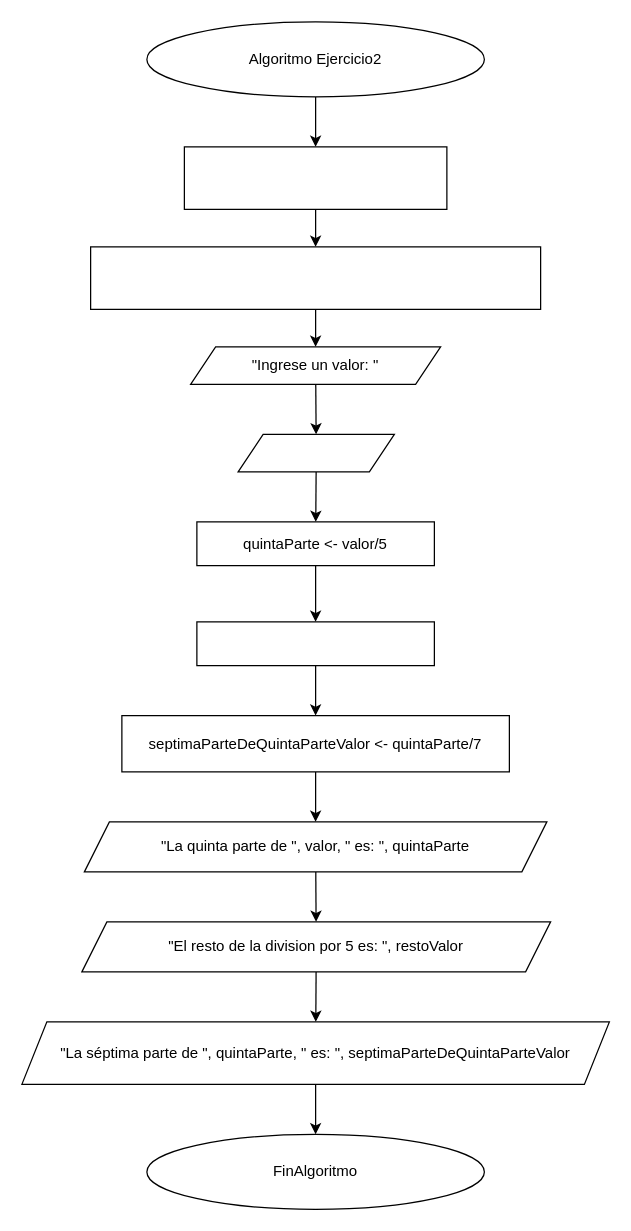
Image size: 631x1231. Some labels were removed from this diagram. Here are the shapes that lost their labels. From the top down, the box of each, then its label:
(183, 146, 447, 209): Definir valor, restoValor como Entero
(89, 246, 541, 309): Definir quintaParte, septimaParteDeQuintaParteValor como Real
(237, 433, 394, 472): valor
(196, 621, 434, 666): restoValor <- valor%5
